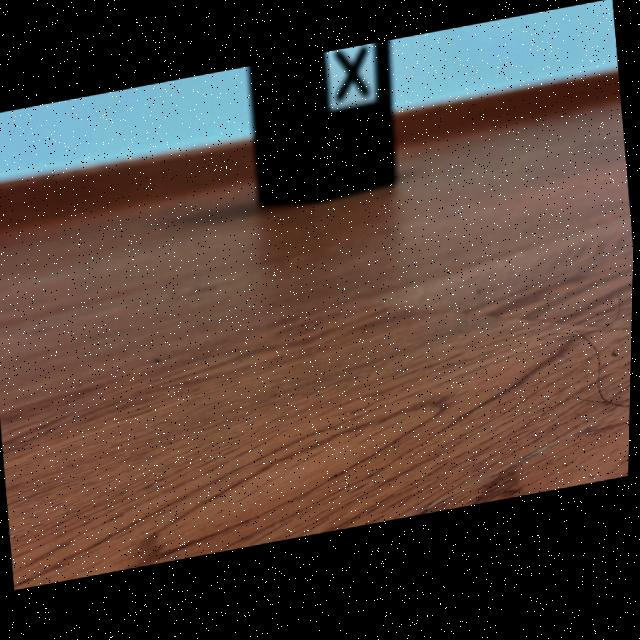X: (336, 56, 367, 104)
